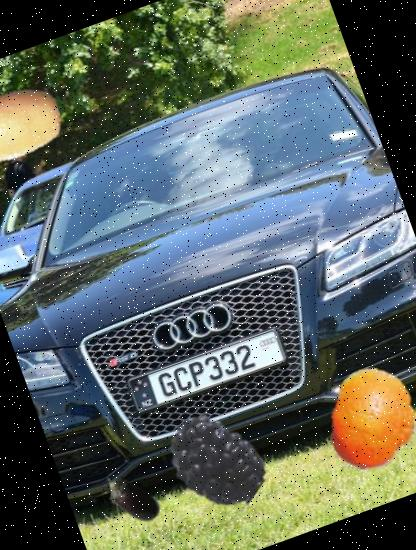Eggplant: (88, 456, 174, 542)
Kumquats: (0, 63, 75, 185)
Mandarine: (306, 353, 416, 485)
Mulberry: (149, 395, 282, 528)
